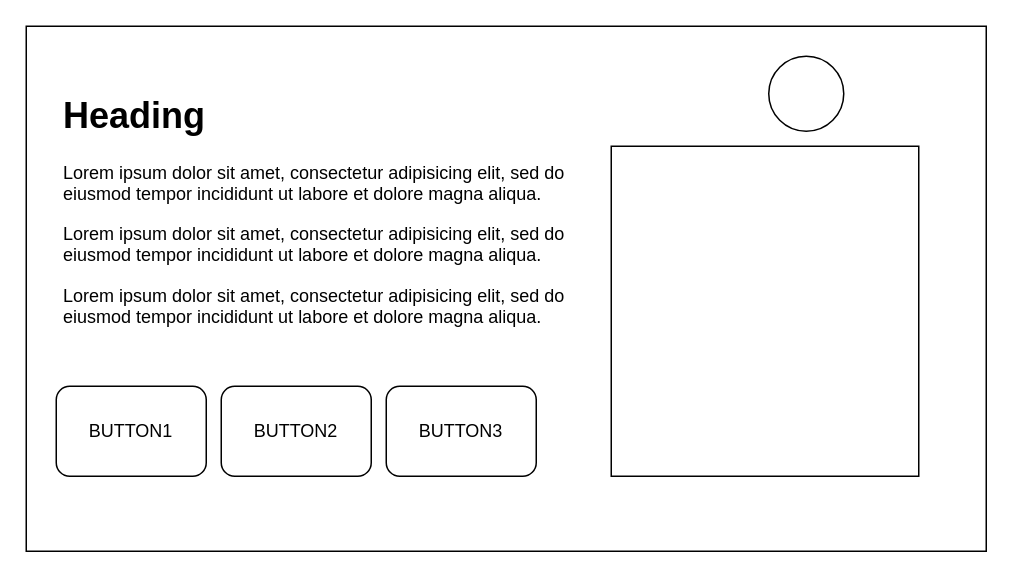
Image size: 1013x578. Some labels were removed from this diagram. The box of each missing label's shape, as (x1, y1, x2, y2) in pixels:
IMAGE: (610, 145, 919, 476)
LOGO: (767, 55, 844, 131)
